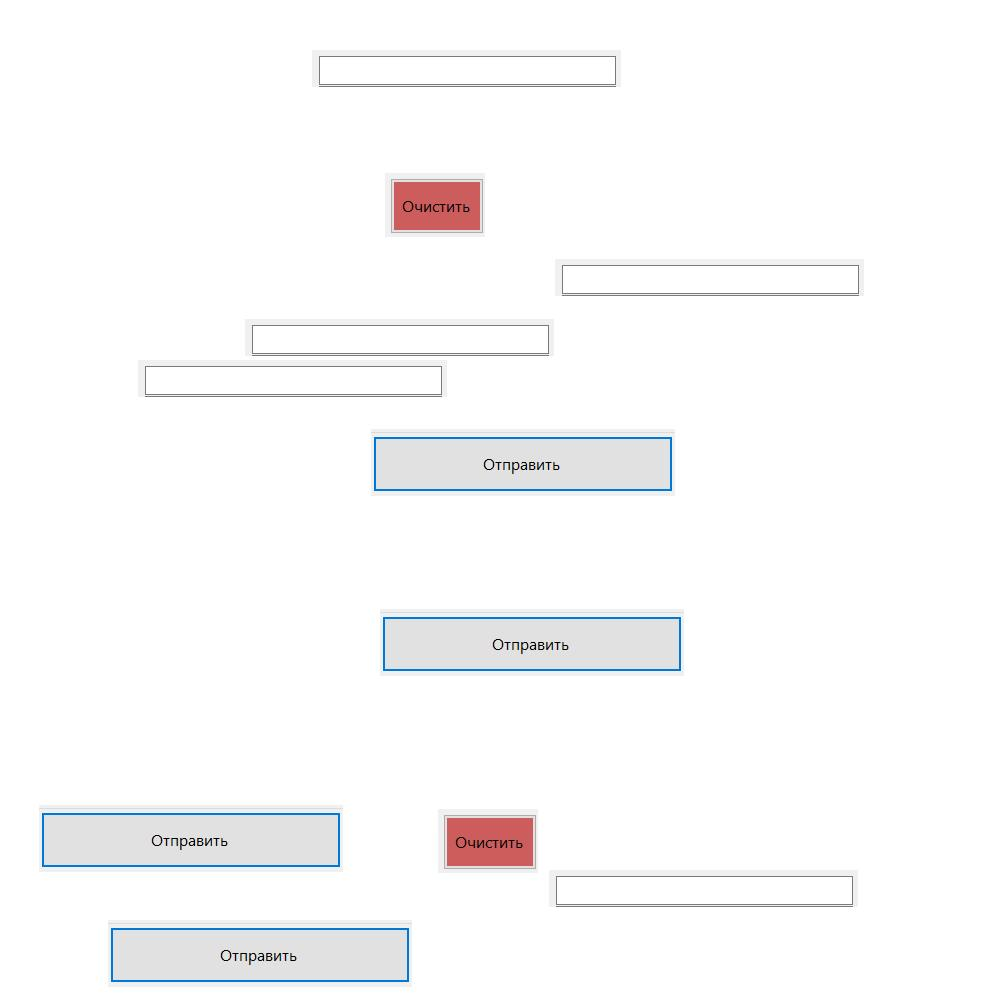Button: (39, 805, 343, 872), (371, 429, 675, 496), (380, 609, 684, 676), (108, 920, 412, 987), (438, 809, 538, 873), (385, 173, 485, 237)
EditText-: (138, 360, 447, 397), (555, 259, 864, 296), (549, 870, 858, 907), (245, 319, 554, 356), (312, 50, 621, 87)
